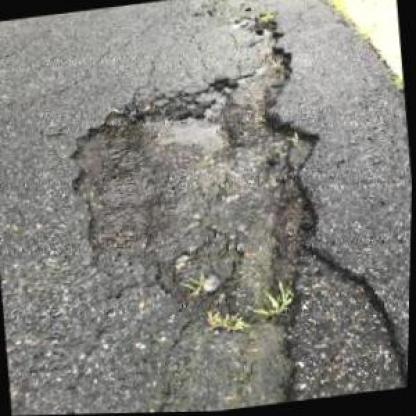pothole: (51, 13, 347, 352)
